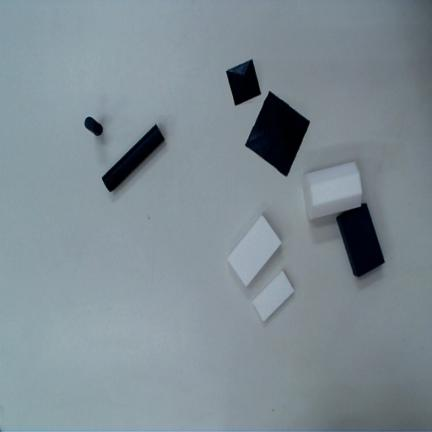Cilindro: (102, 123, 165, 192), (84, 116, 103, 136)
Paralelepipedo: (227, 215, 282, 288), (336, 202, 385, 277), (252, 270, 294, 321)
Piramide: (245, 91, 310, 178), (226, 59, 262, 106)
Prisma_hexagonal: (302, 162, 363, 219)
